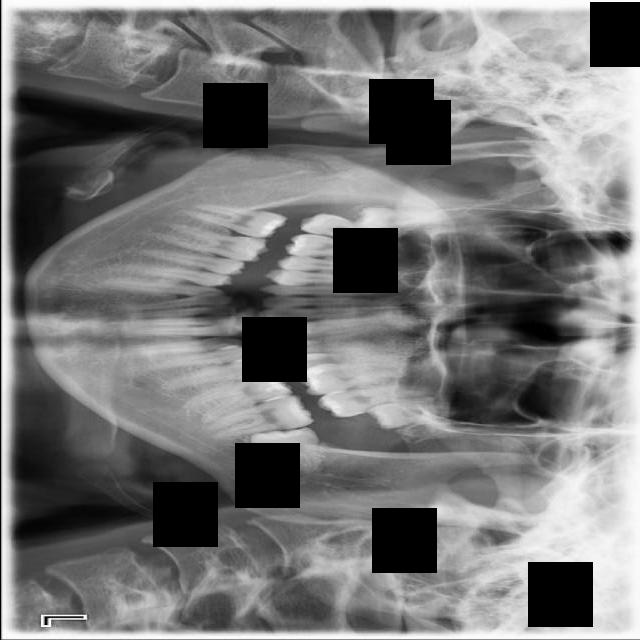3M ESPE Implant: (354, 207, 448, 230)
52: (235, 362, 293, 408), (236, 208, 287, 243), (316, 388, 368, 420)
73: (95, 591, 105, 596)
BioHorizons Implant: (315, 378, 437, 421)
BioLife Implant: (365, 396, 465, 431)
Biomet 3i Implant: (248, 425, 323, 480)
Blue Sky Bio Implant: (202, 391, 314, 440)
Caries: (297, 209, 406, 249)
Implant: (184, 200, 288, 244)
